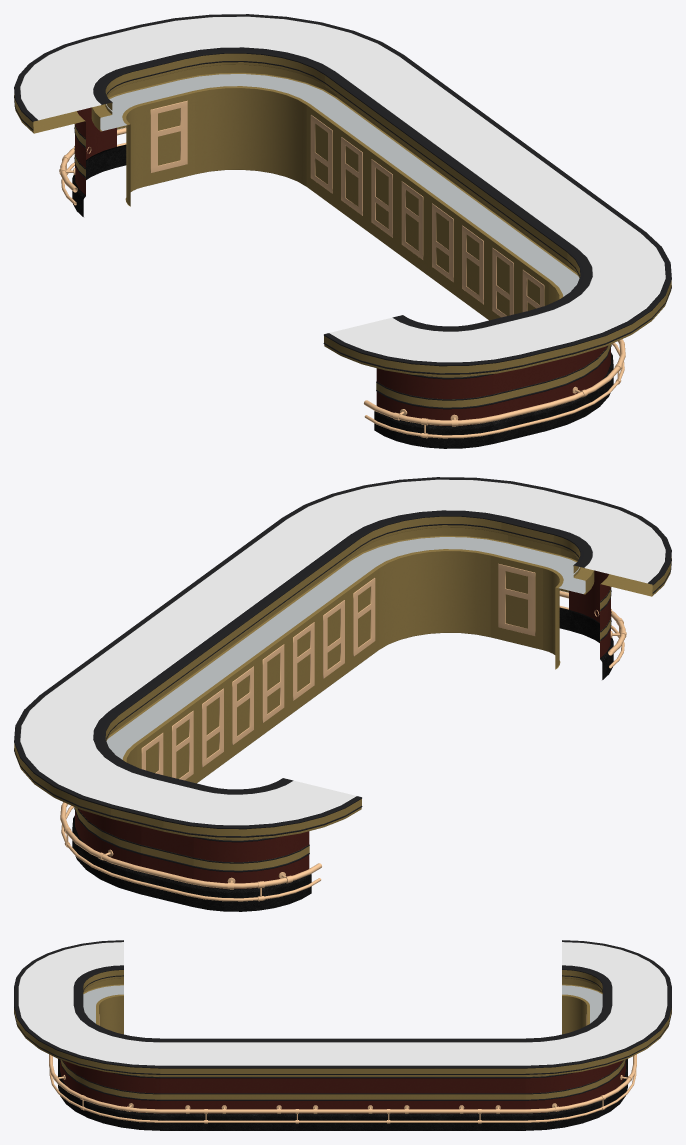
File: modular_bar_footrest.glb
3 renders of one model, top to bottom at view 1: azimuth 30°, elevation 25°; view 2: azimuth 150°, elevation 25°; view 3: azimuth 270°, elevation 25°, orthographic. The views are drawn at different scales.
Parts seen in each view (by area): view 1: curvebar (×4), curvetightbar1 (×5), curvebar1 (×5), straightbar7 (×5), straightbar6 (×5), straightbar (×5), curvetightbar (×6), straightbar1 (×5), smallbar1 (×5), smallbar (×5), tightfootrest2, curvefootrest55; view 2: curvebar1 (×4), curvetightbar (×5), curvebar (×5), straightbar1 (×5), straightbar (×5), straightbar6 (×5), curvetightbar1 (×6), straightbar7 (×5), smallbar (×5), smallbar1 (×5), tightfootrest3, curvefootrest; view 3: curvebar1 (×5), curvebar (×5), straightbar7 (×5), straightbar1 (×5), straightbar6 (×5), straightbar (×5), curvetightbar1 (×4), curvetightbar (×4), smallbar1 (×2), smallbar (×2), curvefootrest55, curvefootrest (+4 smaller).
Boxes of the visible parts, <box> form: curvebar (×4): <box>140,14,403,186</box>; curvetightbar1 (×5): <box>323,315,522,448</box>; curvebar1 (×5): <box>530,232,671,430</box>; straightbar7 (×5): <box>306,55,463,230</box>; straightbar6 (×5): <box>367,99,524,275</box>; straightbar (×5): <box>427,143,585,319</box>; curvetightbar (×6): <box>14,37,142,216</box>; straightbar1 (×5): <box>488,188,645,320</box>; smallbar1 (×5): <box>87,25,195,186</box>; smallbar (×5): <box>477,310,575,443</box>; tightfootrest2: <box>364,400,499,438</box>; curvefootrest55: <box>550,339,625,419</box>; curvebar1 (×4): <box>282,477,545,649</box>; curvetightbar (×5): <box>163,778,362,911</box>; curvebar (×5): <box>14,695,155,893</box>; straightbar1 (×5): <box>222,518,379,693</box>; straightbar (×5): <box>161,562,318,738</box>; straightbar6 (×5): <box>100,606,258,782</box>; curvetightbar1 (×6): <box>543,500,671,679</box>; straightbar7 (×5): <box>40,651,197,783</box>; smallbar (×5): <box>490,488,598,649</box>; smallbar1 (×5): <box>110,773,208,906</box>; tightfootrest3: <box>186,863,321,901</box>; curvefootrest: <box>60,802,135,882</box>; curvebar1 (×5): <box>14,1005,160,1130</box>; curvebar (×5): <box>525,1005,671,1130</box>; straightbar7 (×5): <box>434,1038,525,1130</box>; straightbar1 (×5): <box>160,1038,251,1130</box>; straightbar6 (×5): <box>343,1038,434,1130</box>; straightbar (×5): <box>251,1038,342,1130</box>; curvetightbar1 (×4): <box>14,940,123,1034</box>; curvetightbar (×4): <box>562,940,671,1034</box>; smallbar1 (×2): <box>602,986,671,1011</box>; smallbar (×2): <box>14,986,83,1011</box>; curvefootrest55: <box>49,1063,160,1122</box>; curvefootrest: <box>525,1063,636,1122</box>.
Bounding box in the file's own units: 0.9181 × 0.275 × 2.
7 materials, 7 textured.
